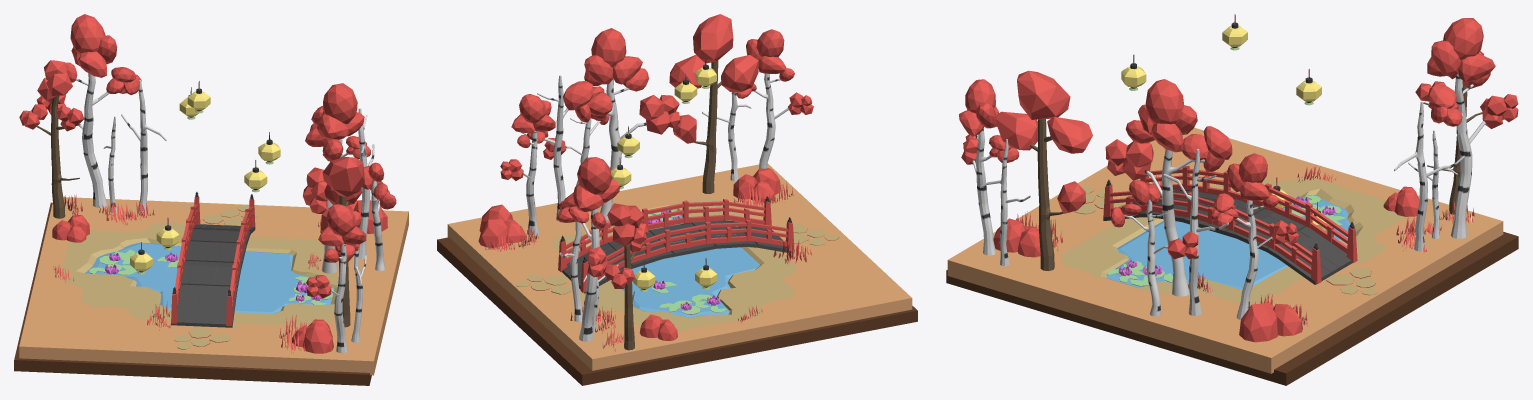
The model's file is Japanese Garden Tex.fbx.
The picture shows the model from 3 angles, left to right: view 1: azimuth 30°, elevation 25°; view 2: azimuth 150°, elevation 25°; view 3: azimuth 270°, elevation 25°; orthographic projection. The views are drawn at different scales.
Parts seen in each view (by area): view 1: Japanses Garden; view 2: Japanses Garden; view 3: Japanses Garden.
Part boxes in pixels (x1,y1,x2,y2): Japanses Garden: [14, 14, 408, 385]; Japanses Garden: [437, 14, 917, 385]; Japanses Garden: [946, 14, 1518, 385].
Bounding box in the file's own units: 187 × 89.43 × 188.
1 material, 1 textured.
